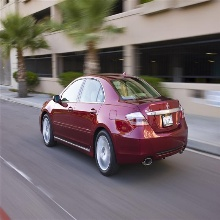no damage: (39, 73, 189, 175)
